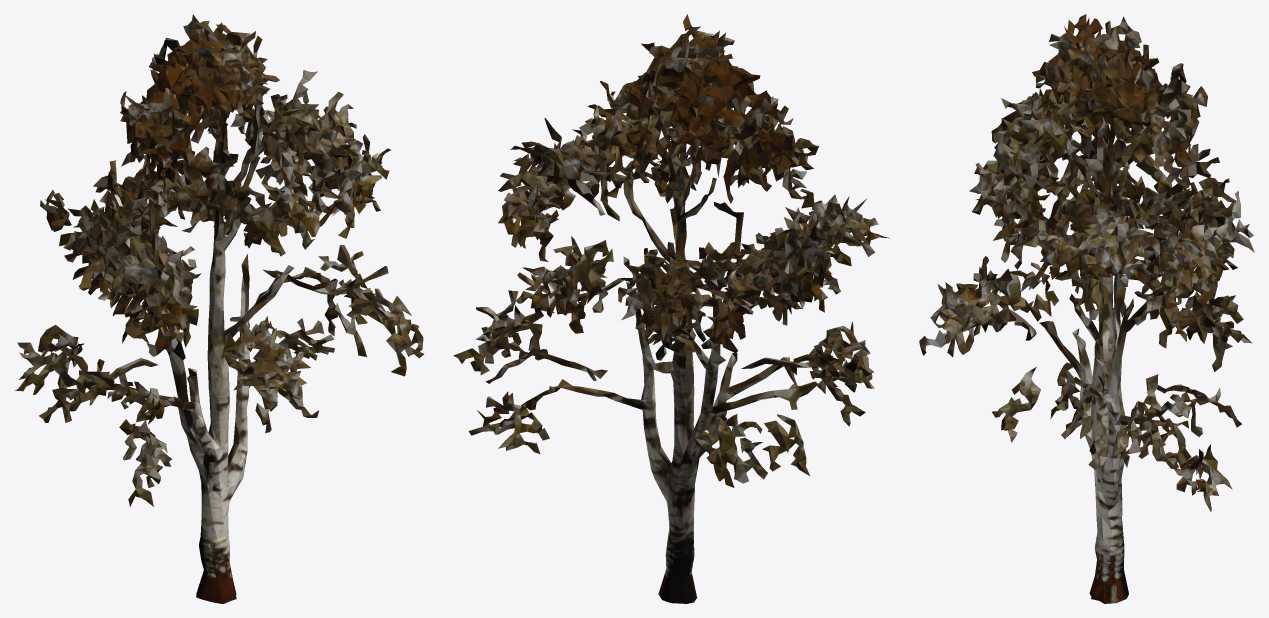
Rendered from traveler_env_coast_iuchi_mountain_birch_00001_.glb.
3 views of the same model, side by side, from view 1: azimuth 30°, elevation 25°; view 2: azimuth 150°, elevation 25°; view 3: azimuth 270°, elevation 25° (orthographic). The views are drawn at different scales.
Parts seen in each view (by area): view 1: temp_mesh.ply; view 2: temp_mesh.ply; view 3: temp_mesh.ply.
Part boxes in pixels (left/top/right/bottom): temp_mesh.ply: left=15, top=14, right=423, bottom=603; temp_mesh.ply: left=453, top=14, right=889, bottom=603; temp_mesh.ply: left=919, top=14, right=1254, bottom=603.
Bounding box in the file's own units: 1.35 × 1.96 × 1.04.
Materials: 1 (1 with a texture image).
